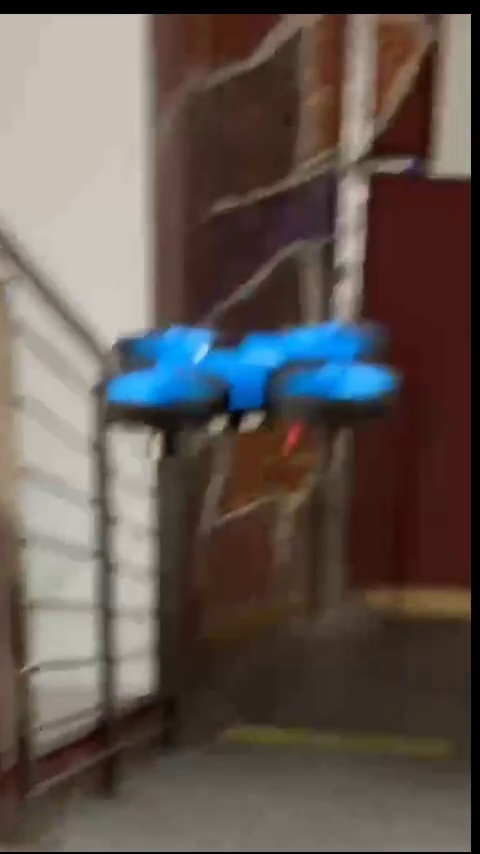drone: (100, 320, 389, 459)
